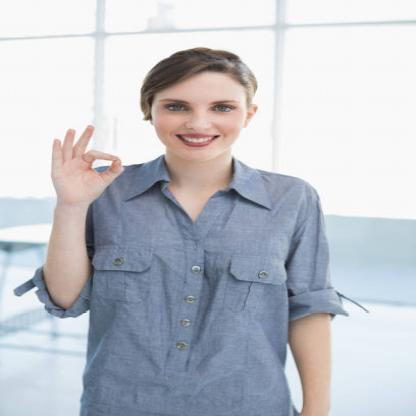ok: (49, 122, 128, 204)
